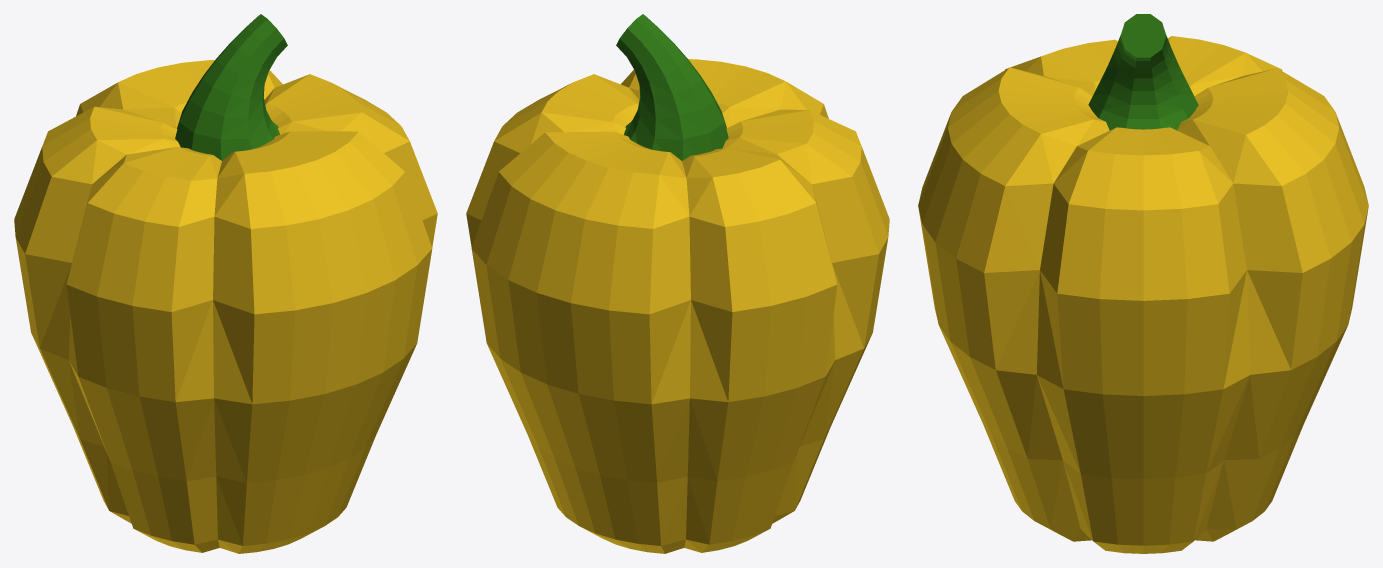
Rendered from Pepper_v.1.0.fbx.
The picture shows the model from 3 angles, left to right: view 1: azimuth 30°, elevation 25°; view 2: azimuth 150°, elevation 25°; view 3: azimuth 270°, elevation 25°; orthographic projection. The views are drawn at different scales.
Parts seen in each view (by area): view 1: Cylinder.001; view 2: Cylinder.001; view 3: Cylinder.001.
Part boxes in pixels (<box>): Cylinder.001: <box>14,14,437,553</box>; Cylinder.001: <box>466,14,889,553</box>; Cylinder.001: <box>918,14,1368,553</box>.
Bounding box in the file's own units: 198 × 253 × 200.
